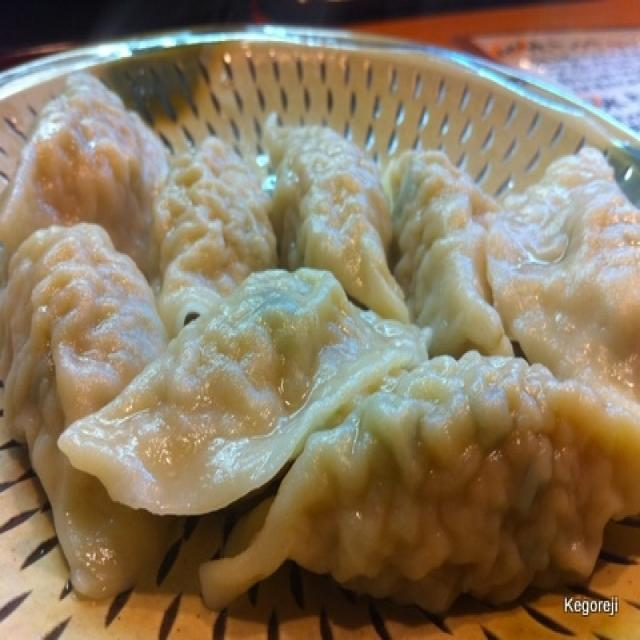带馅早点: (12, 30, 612, 608)
